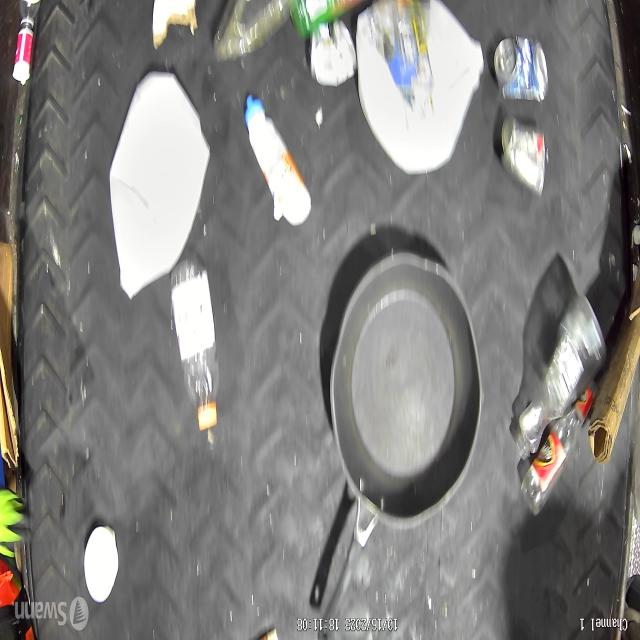can: (501, 112, 546, 198), (497, 36, 547, 108)
milk_jug: (109, 71, 211, 303), (359, 0, 482, 175)
plastic_bottle: (511, 300, 606, 452), (518, 388, 595, 520), (168, 260, 220, 436)
